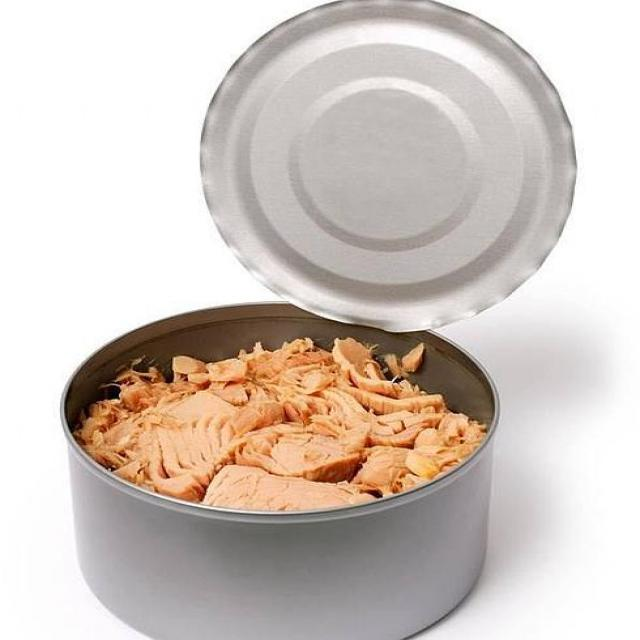Lata: (71, 0, 567, 634)
